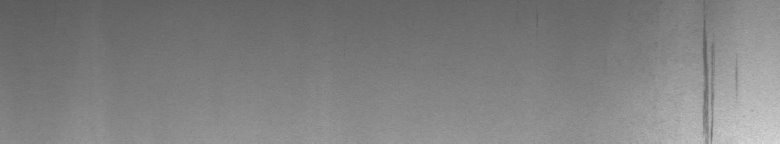hd: (699, 15, 738, 136)
